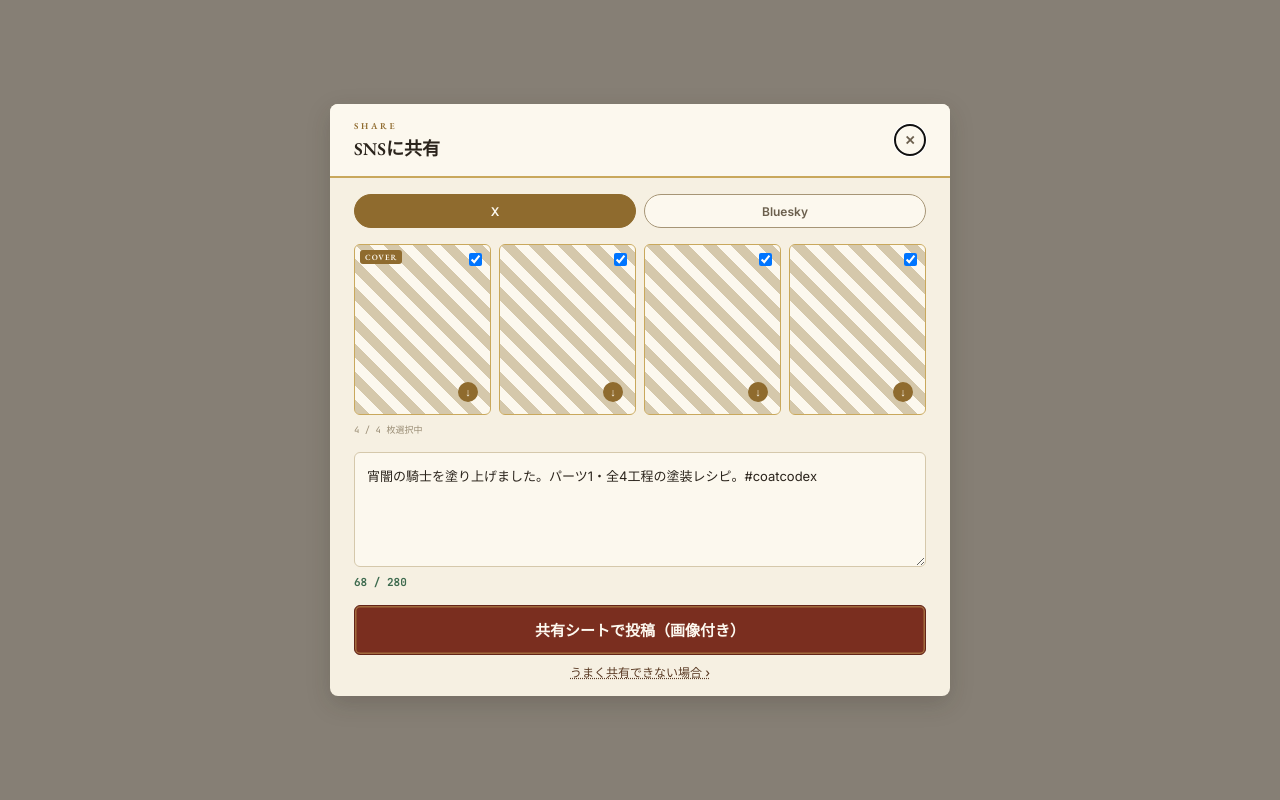
Test: ShareDialog — 選択ロジック › 選択解除後は再選択でき、選択数表示が更新される
Expected: the text with test id "share-image-selection-count" shows "4 / 4", [354,424,422,436]
Click the checkbox labelled "COVER ↓" at (476, 260), box [469,253,482,266]
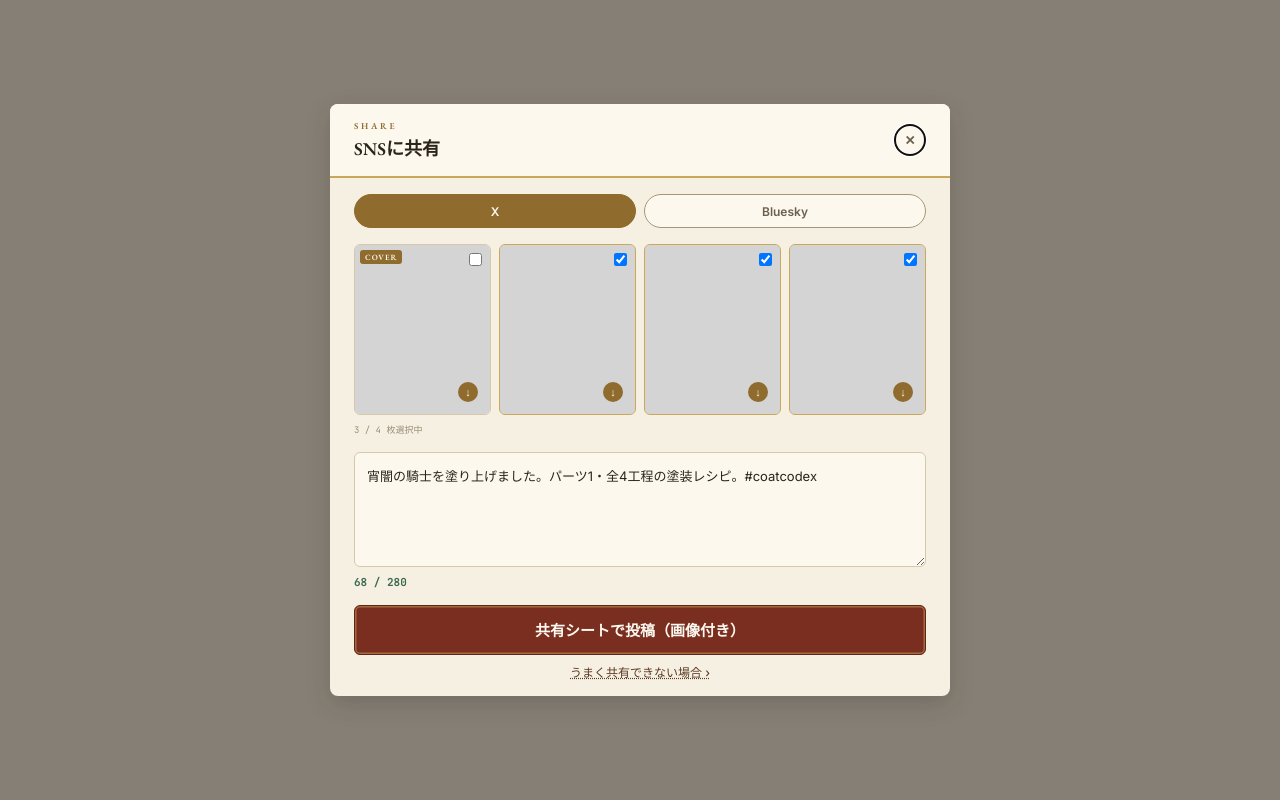
Result: the text with test id "share-image-selection-count" shows "3 / 4" at [354,424,422,436]
Click the checkbox labelled "COVER ↓" at (476, 260), box [469,253,482,266]
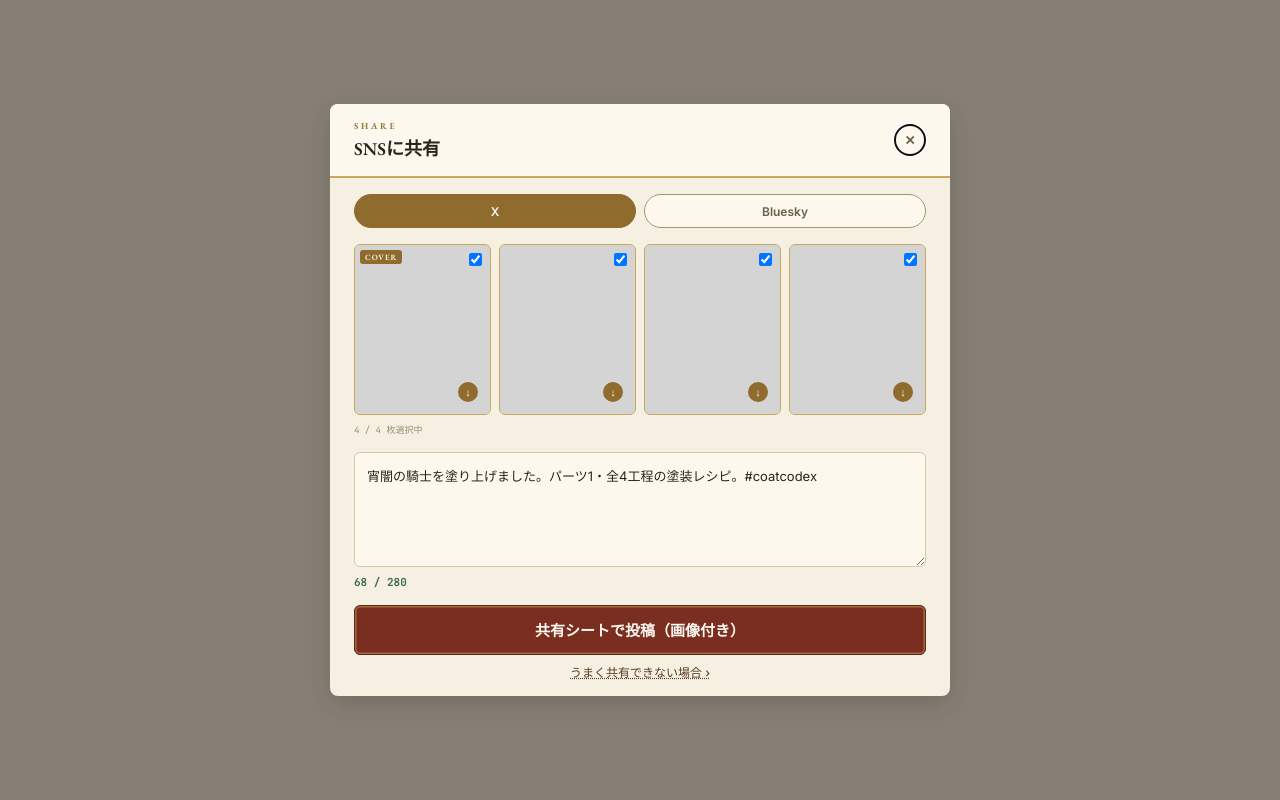
Result: the text with test id "share-image-selection-count" shows "4 / 4" at [354,424,422,436]
